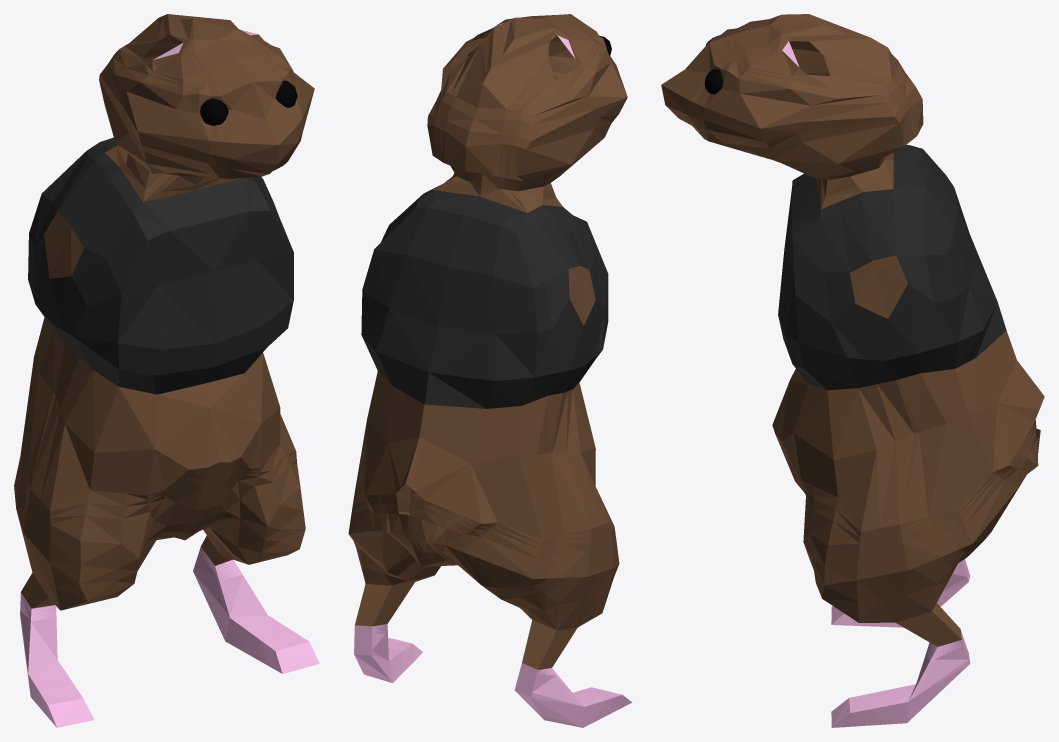
Rendered from Mouse.fbx.
The picture shows the model from 3 angles, left to right: view 1: azimuth 30°, elevation 25°; view 2: azimuth 150°, elevation 25°; view 3: azimuth 270°, elevation 25°; orthographic projection. The views are drawn at different scales.
Parts seen in each view (by area): view 1: Base; view 2: Base; view 3: Base.
Boxes of the visible parts, x1=… form: Base: x1=14, y1=14, x2=319, y2=727; Base: x1=348, y1=14, x2=631, y2=727; Base: x1=661, y1=14, x2=1044, y2=727.
Bounding box in the file's own units: 162 × 401 × 216.
